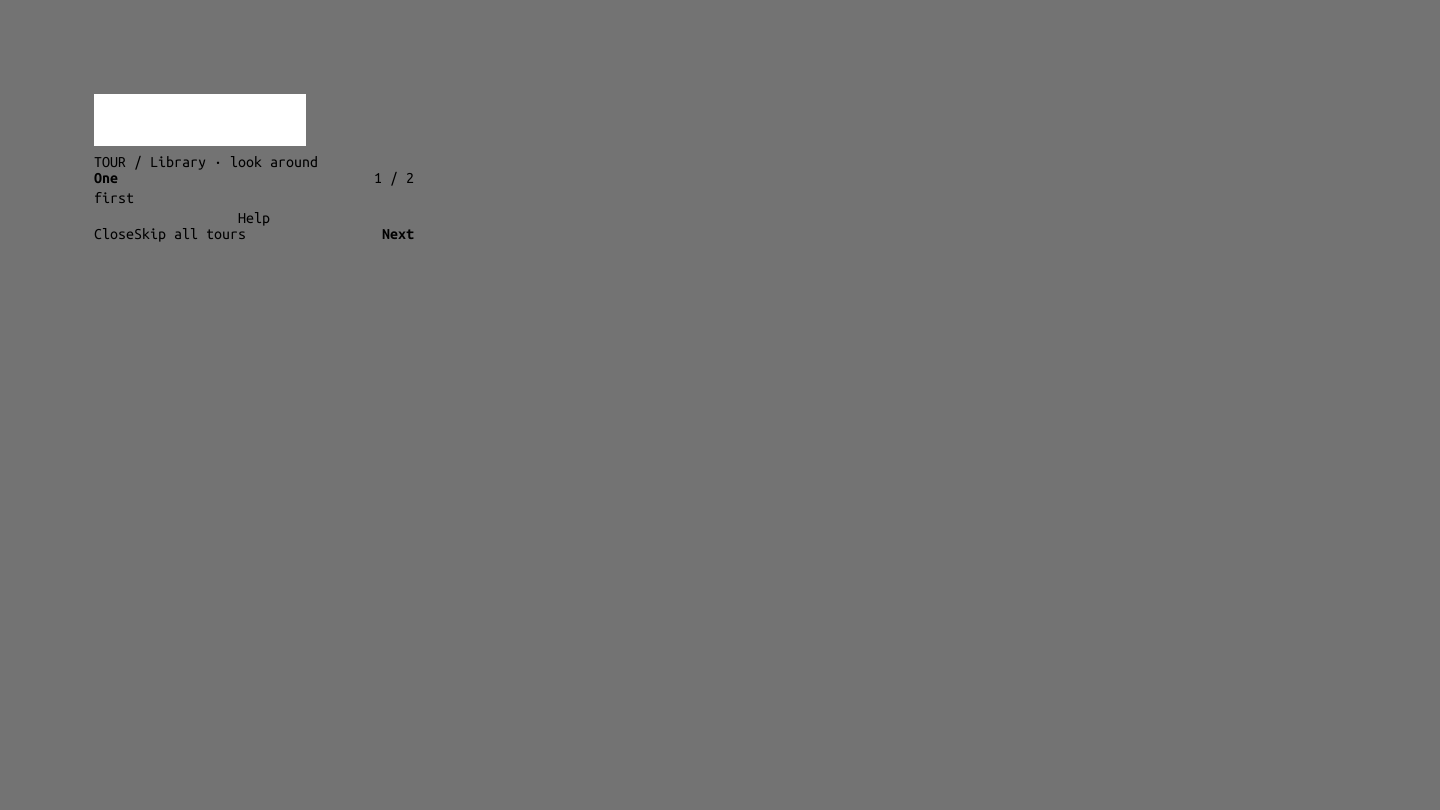
Scenario: TourOverlay sequencing › skips steps whose anchor is missing
This screenshot has width=1440, height=810.
Click the button "Next": (398, 234) [382, 226, 414, 242]
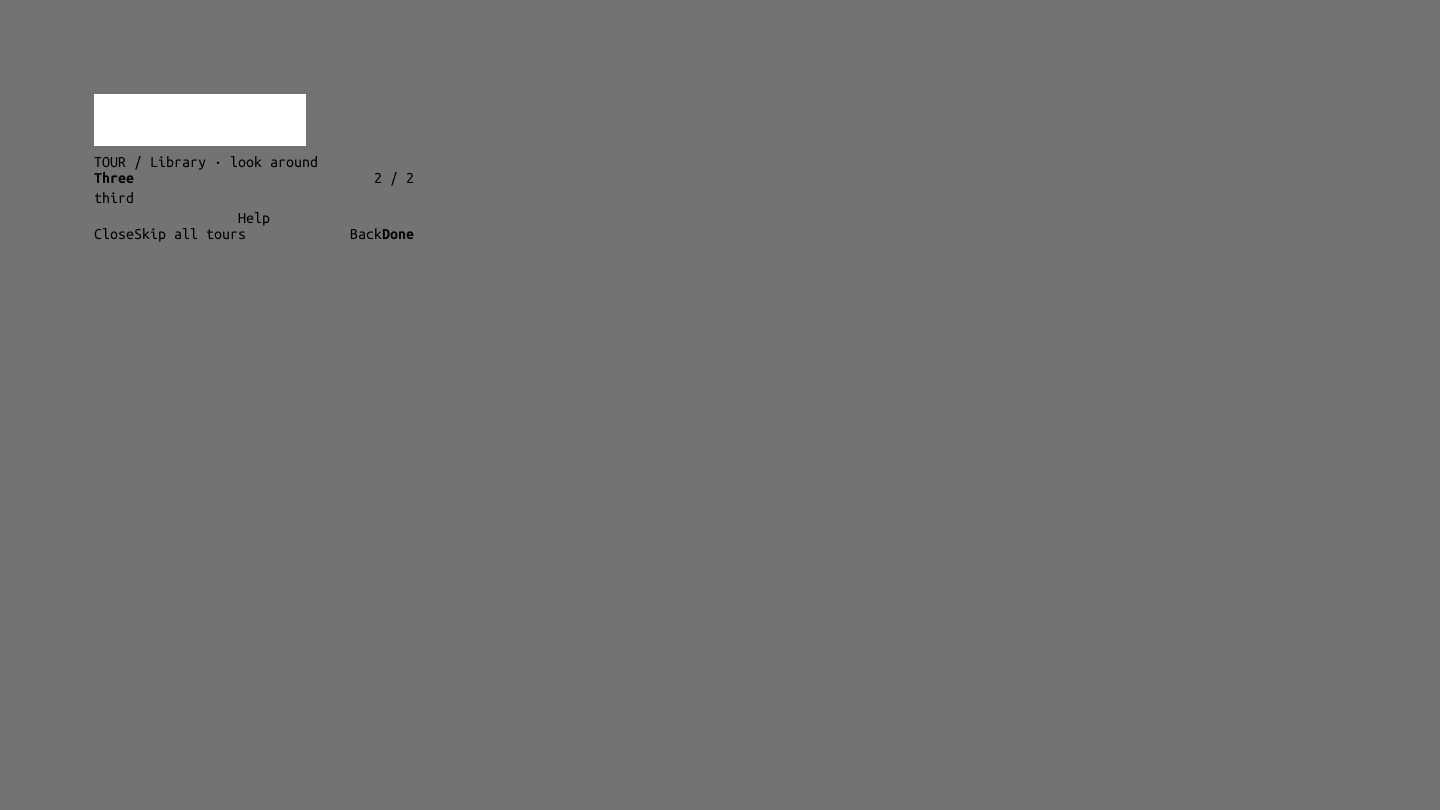
Expected: the text with class "tour-popover-title" reads "Three", [94, 170, 134, 186]
